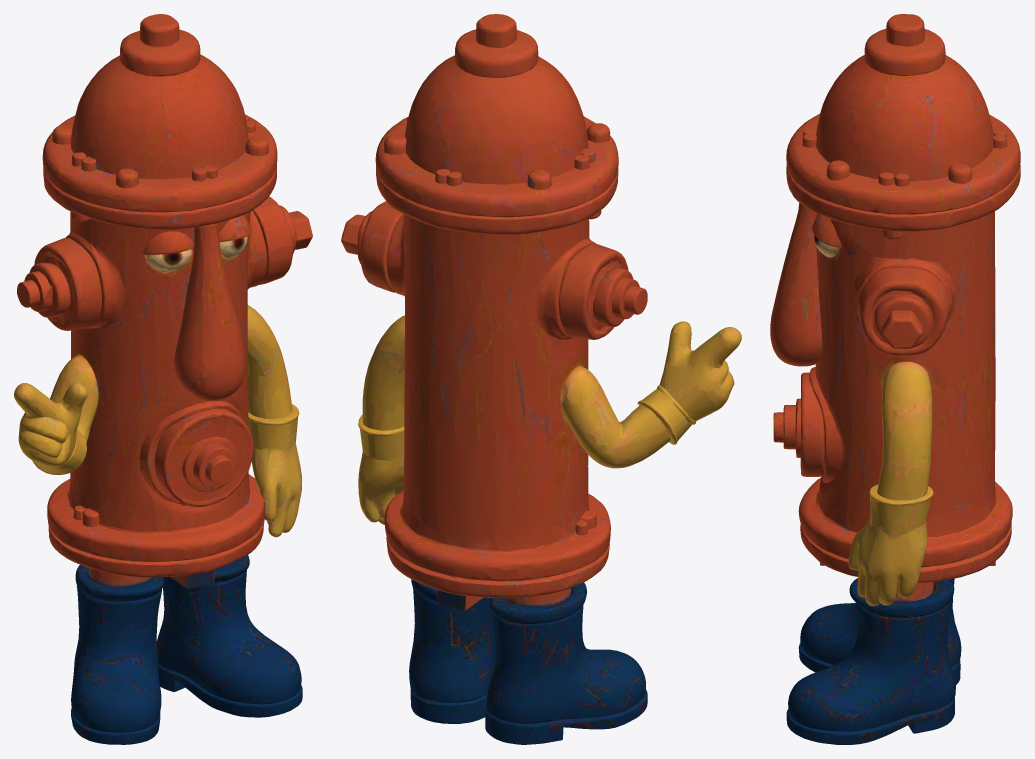
The model's file is mainst_hydrant.glb.
3 views of the same model, side by side, from view 1: azimuth 30°, elevation 25°; view 2: azimuth 150°, elevation 25°; view 3: azimuth 270°, elevation 25° (orthographic). The views are drawn at different scales.
Parts seen in each view (by area): view 1: Mesh_0; view 2: Mesh_0; view 3: Mesh_0.
Boxes of the visible parts, x1,y1,x2,y2 form: Mesh_0: [14, 14, 312, 744]; Mesh_0: [341, 14, 741, 744]; Mesh_0: [770, 14, 1020, 744].
Size of the model in its own units: 0.9894 by 1.9 by 0.6382.
Materials: 1 (1 with a texture image).
